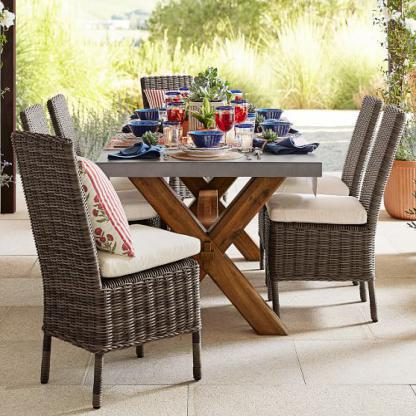table: (89, 97, 326, 339)
